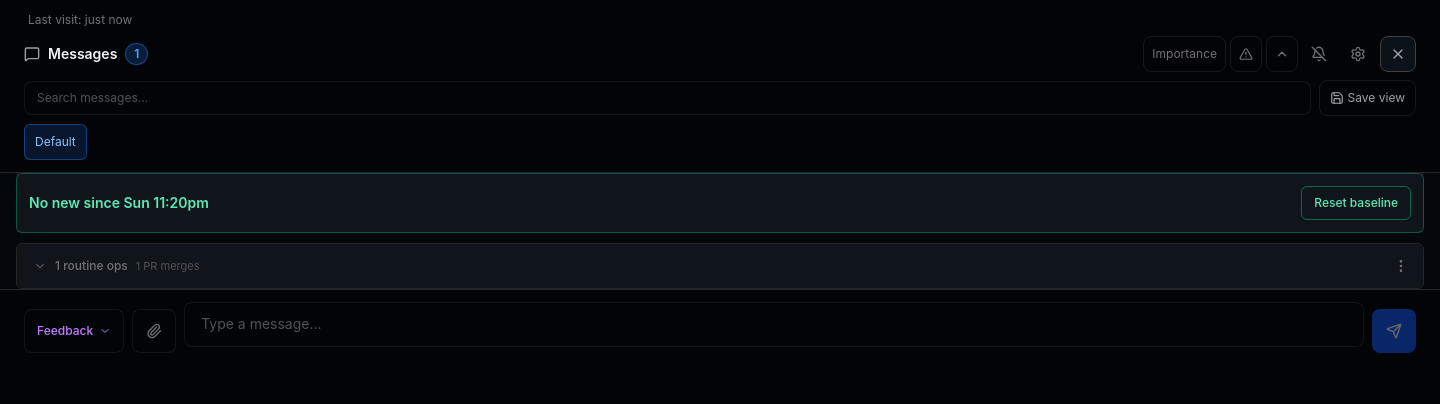
Test case: MessagesPanel mute window › clicking End mute early clears window and removes the mute banner
Click the button named "Mute routine ops temporarily" at (1319, 54), box [1302, 36, 1336, 72]
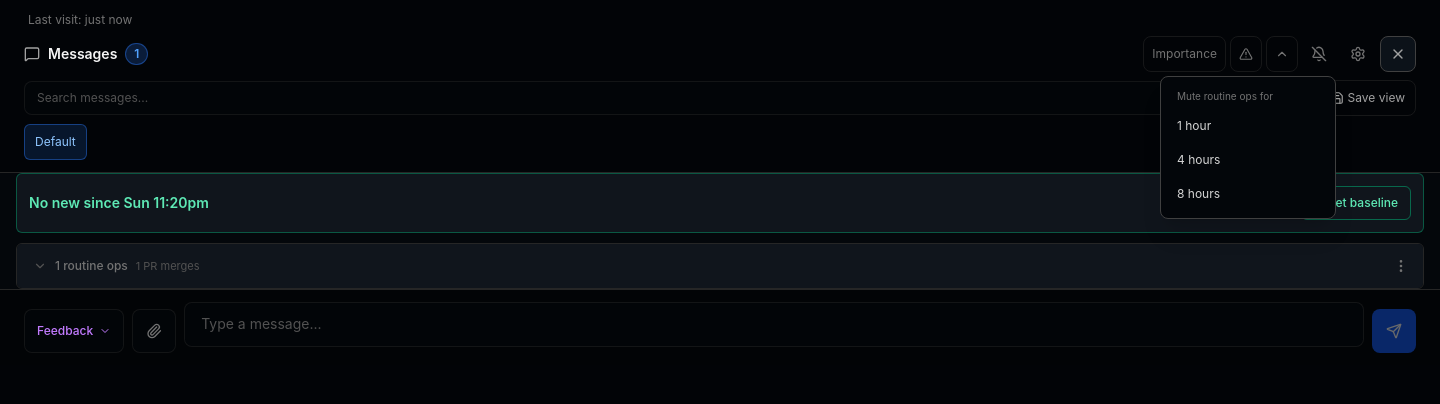
Click the button "1 hour" at (1248, 126), box [1169, 110, 1327, 142]
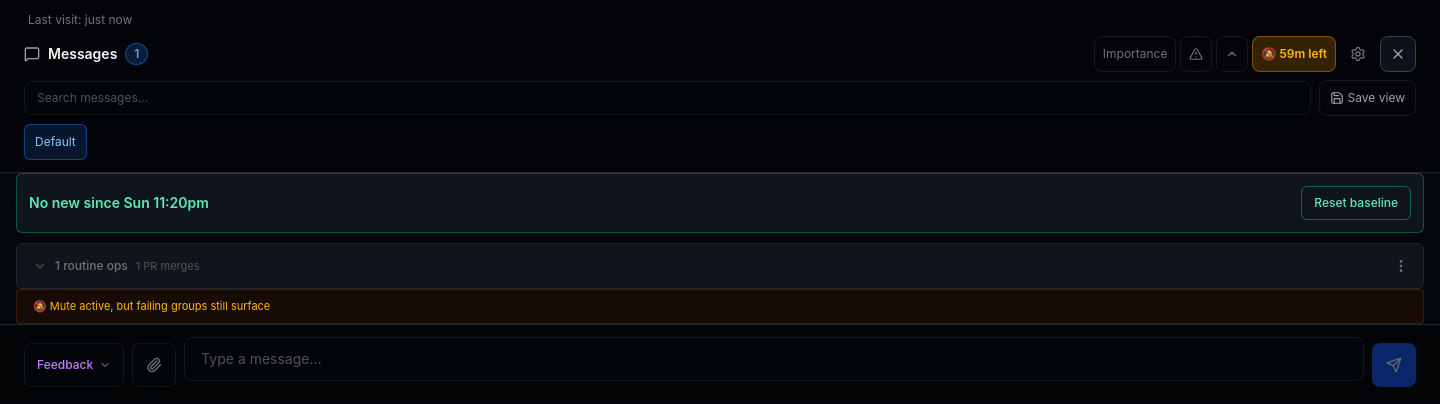
Check: the text "Mute active" is shown, box [33, 299, 270, 313]
Click the button "🔕 59m left" at (1294, 54), box [1252, 36, 1336, 72]
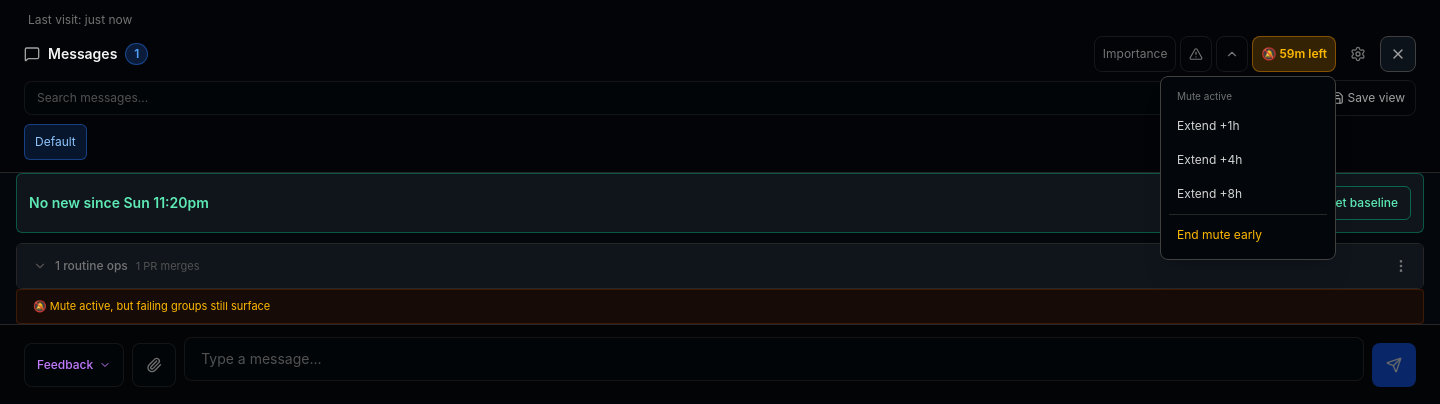
Click the button "End mute early" at (1248, 235), box [1169, 219, 1327, 251]
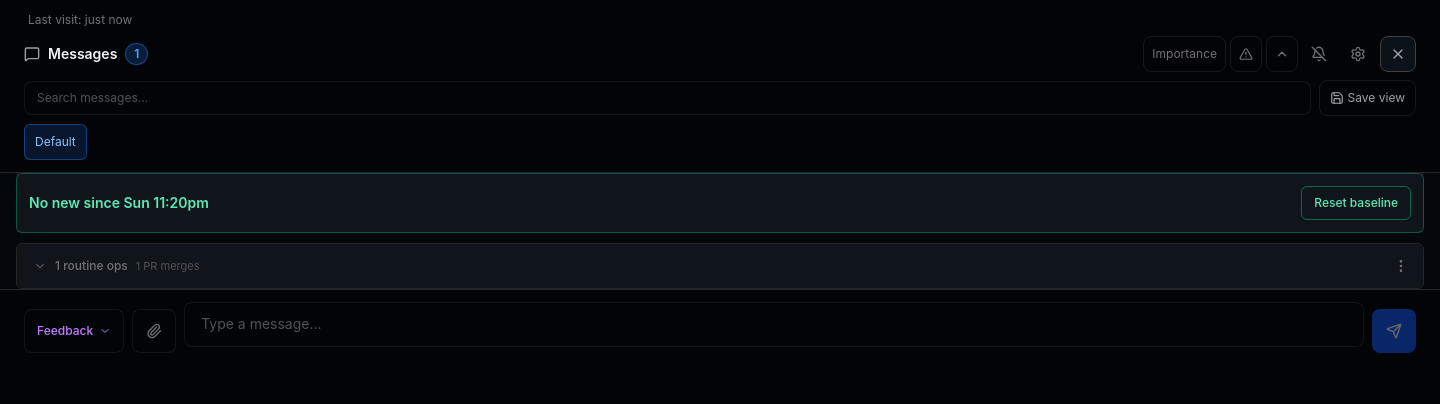
Check: the text "routine ops" is shown, box [60, 258, 128, 273]
Check: the text "Mute active" is gone
